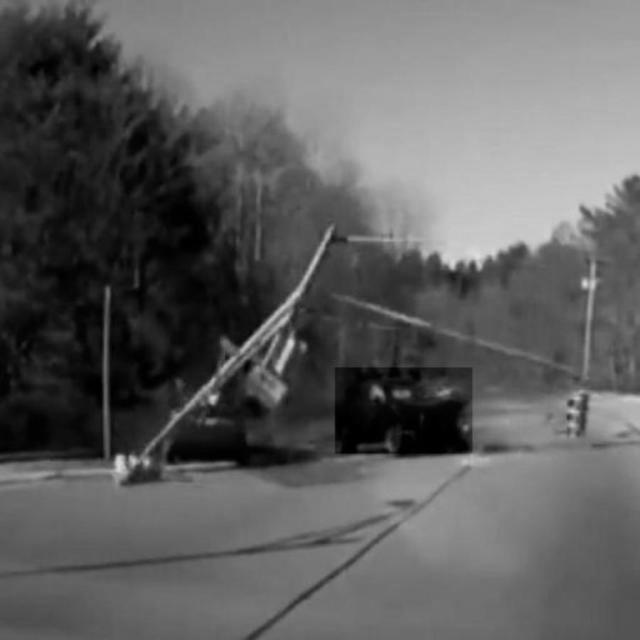vehicle: (336, 368, 473, 454)
